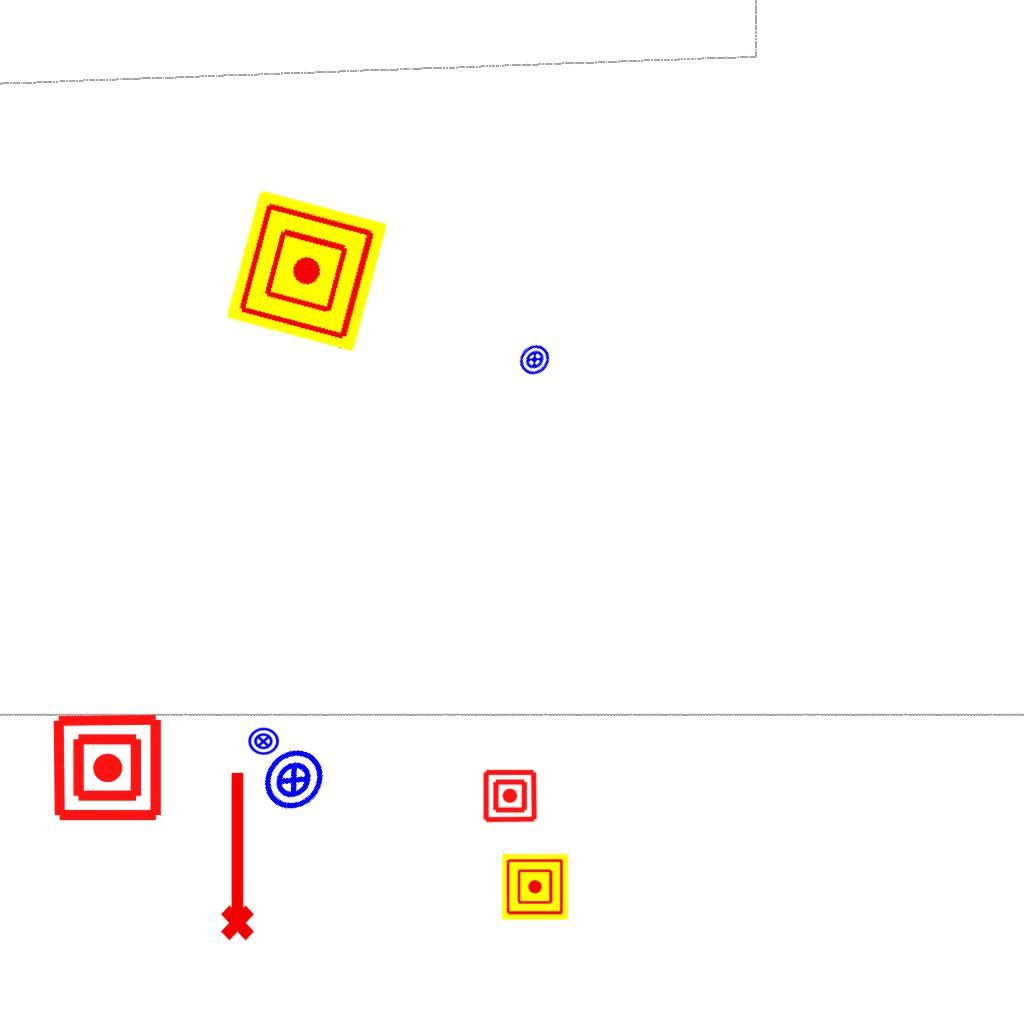ASR_Ansaugoeffnung: (212, 767, 258, 943)
NAM-Nichtautomatischer_Melder: (226, 190, 388, 352), (51, 711, 164, 824), (502, 854, 568, 920), (482, 768, 538, 824)
Taster_beleuchtet: (247, 733, 341, 827), (511, 336, 558, 383), (247, 725, 280, 758)
